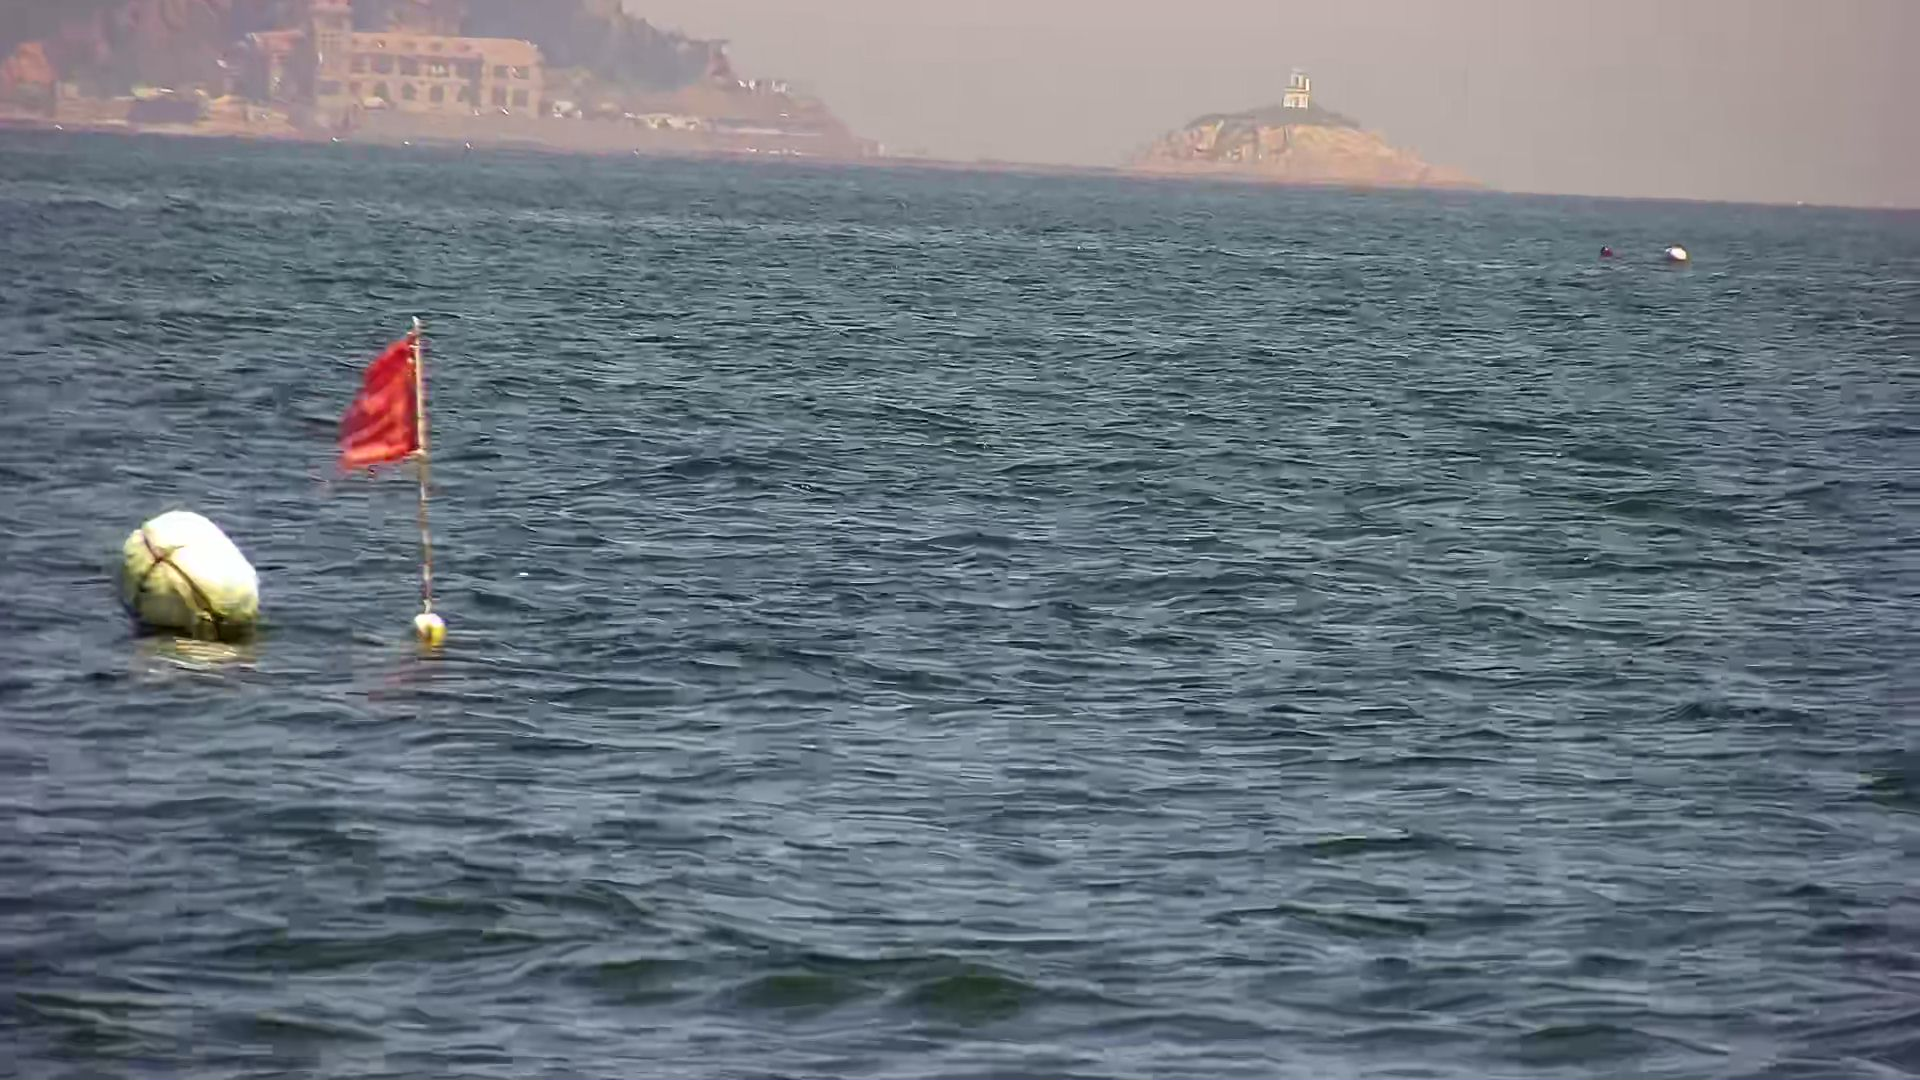mast: (315, 290, 489, 665)
rock: (1076, 41, 1510, 193)
rubbish: (92, 483, 295, 646), (1656, 233, 1725, 272), (1588, 231, 1623, 262)
